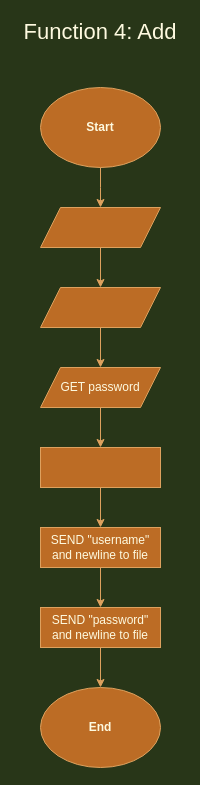
This 200x785 diagram has some shape labels left out. The shapes that lost their labels are listed below. From the top down, each one's box as (x1, y1, x2, y2) in pixels, then its label:
(40, 206, 160, 248): GET accountName
(40, 286, 160, 328): GET username
(40, 446, 160, 488): SEND "// accountName //" and newline to file
